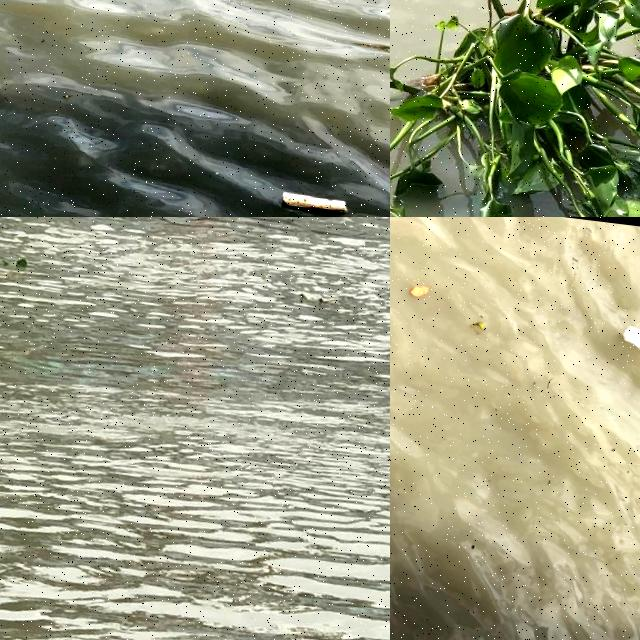water-hyacinth: (391, 1, 640, 218), (1, 218, 65, 293)
